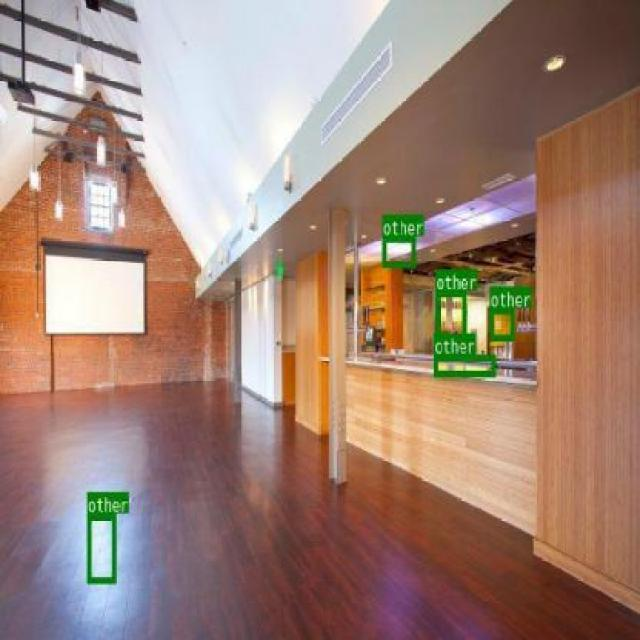Smoke: (86, 512, 115, 582), (434, 290, 466, 338), (433, 354, 495, 376), (382, 236, 415, 266), (489, 306, 514, 340)
